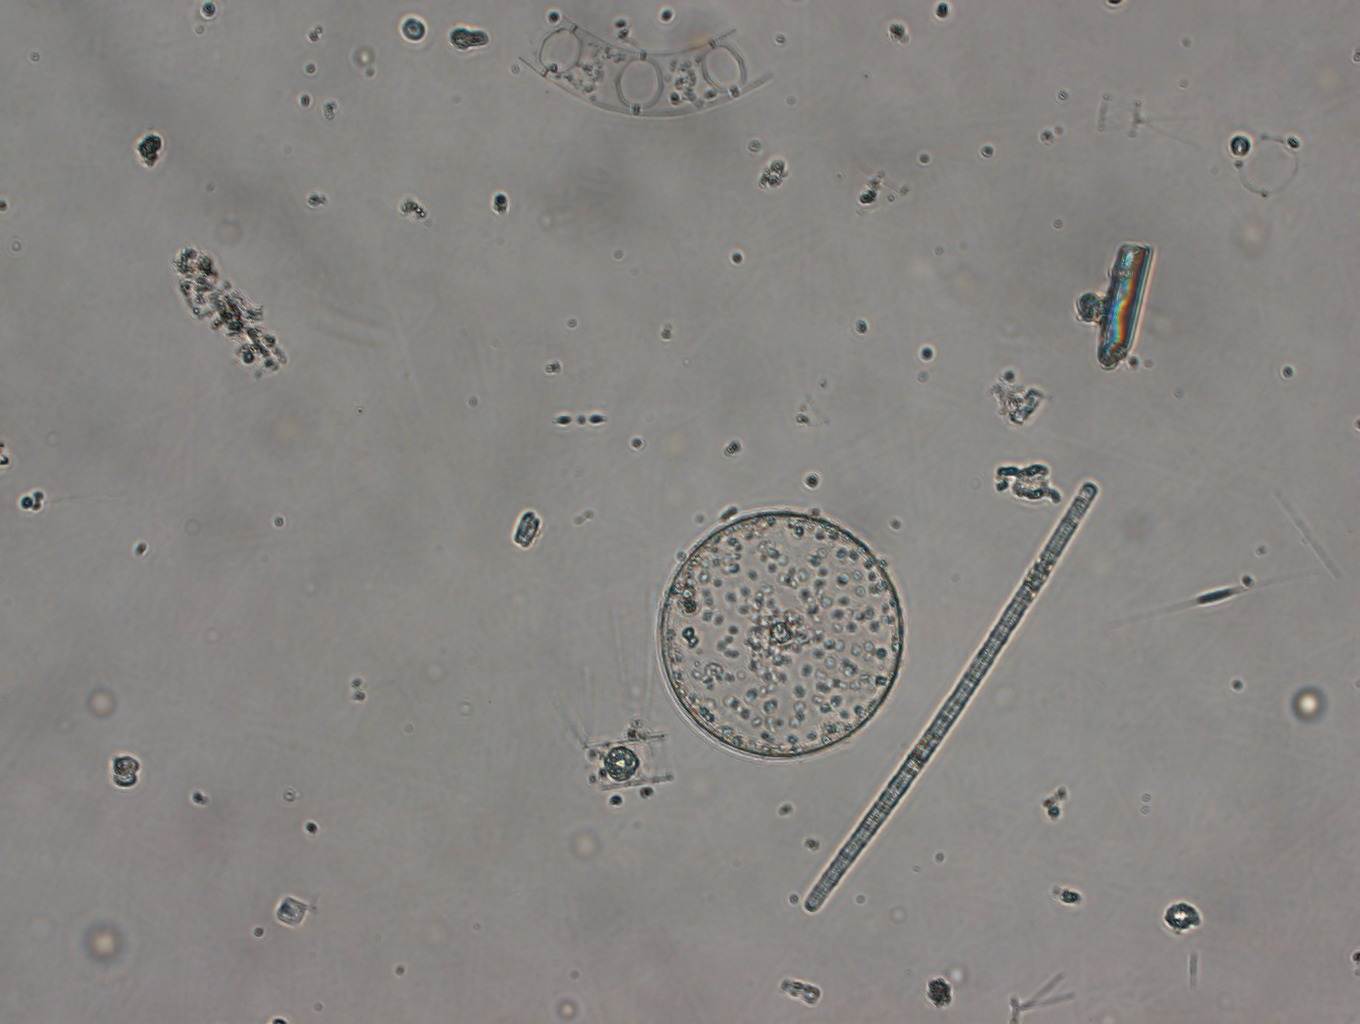coscinodiscus: (657, 509, 906, 760)
eucampia: (518, 14, 773, 117)
